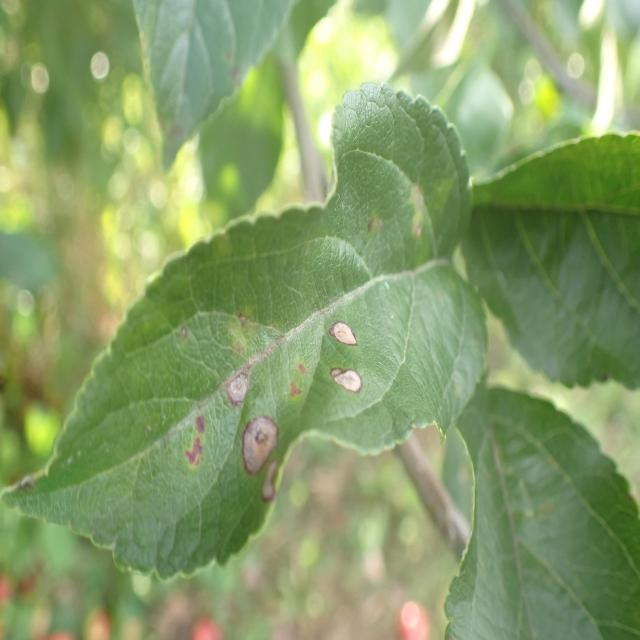frog-eye-leaf-spot: (1, 80, 489, 584)
